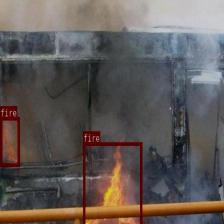fire: (82, 141, 141, 224), (0, 116, 19, 166)
